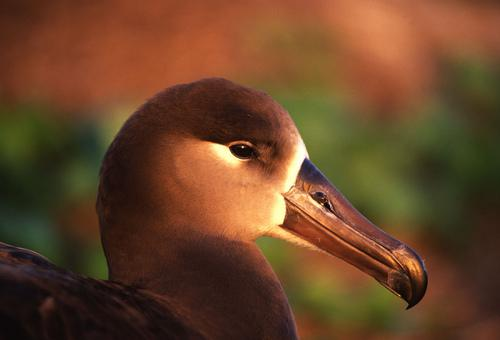001.Black_footed_Albatross: (4, 78, 428, 340)
